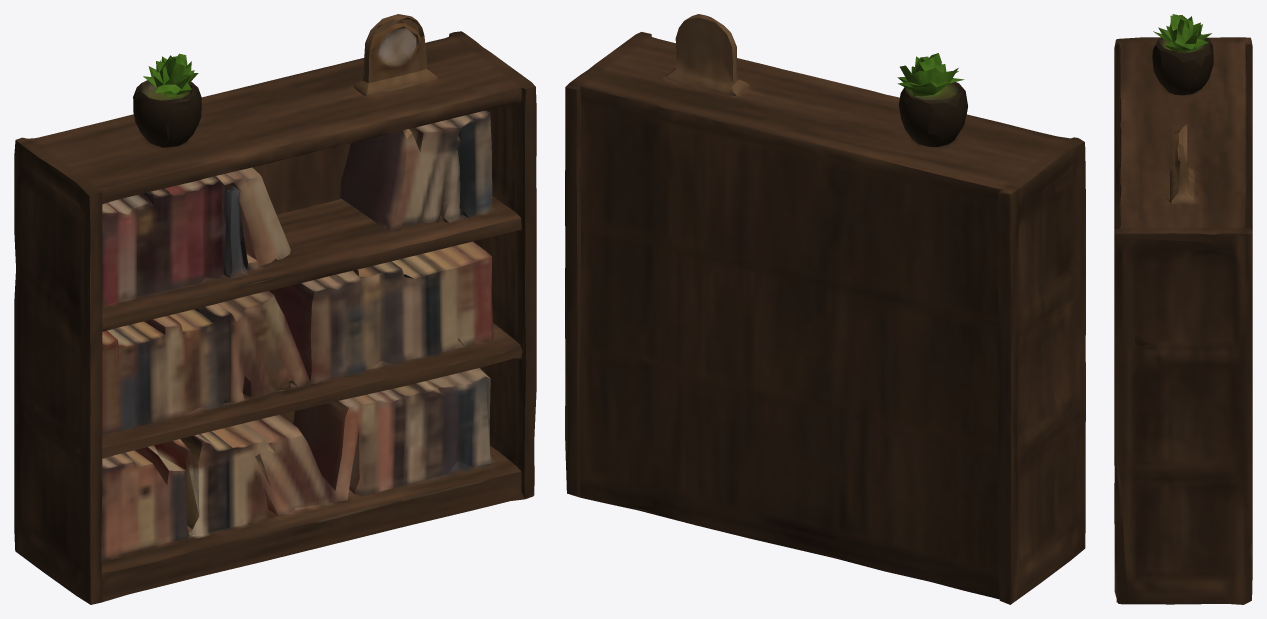
Rendered from bookshelf.glb.
The picture shows the model from 3 angles, left to right: view 1: azimuth 30°, elevation 25°; view 2: azimuth 150°, elevation 25°; view 3: azimuth 270°, elevation 25°; orthographic projection. The views are drawn at different scales.
Parts seen in each view (by area): view 1: world; view 2: world; view 3: world.
Boxes of the visible parts, x1,y1,x2,y2 form: world: [14, 14, 536, 604]; world: [565, 14, 1085, 604]; world: [1114, 14, 1252, 604].
Bounding box in the file's own units: 1.2 × 1.26 × 0.3554.
Materials: 1 (1 with a texture image).
